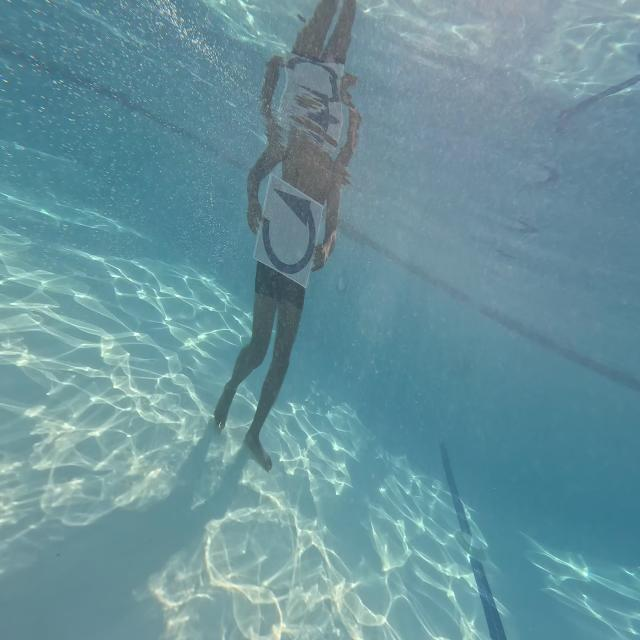blue_side: (256, 172, 322, 291)
